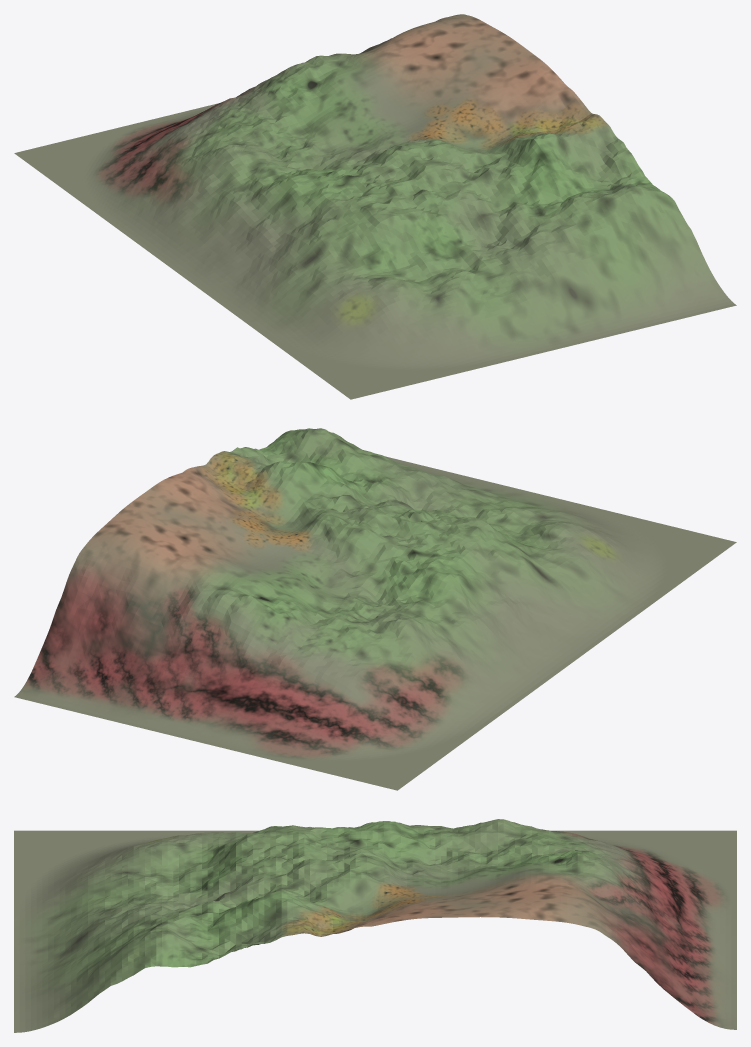
The model's file is Kings-Village-Terrain.dae.
3 views of the same model, one above another, from view 1: azimuth 30°, elevation 25°; view 2: azimuth 150°, elevation 25°; view 3: azimuth 270°, elevation 25° (orthographic). The views are drawn at different scales.
Visible parts, largest first — view 1: Kings-Village; view 2: Kings-Village; view 3: Kings-Village.
Boxes of the visible parts, <box> form: Kings-Village: <box>14,14,736,399</box>; Kings-Village: <box>14,428,736,790</box>; Kings-Village: <box>14,819,736,1032</box>.
Bounding box in the file's own units: 21.19 × 32 × 5.56.
1 material, 1 textured.
